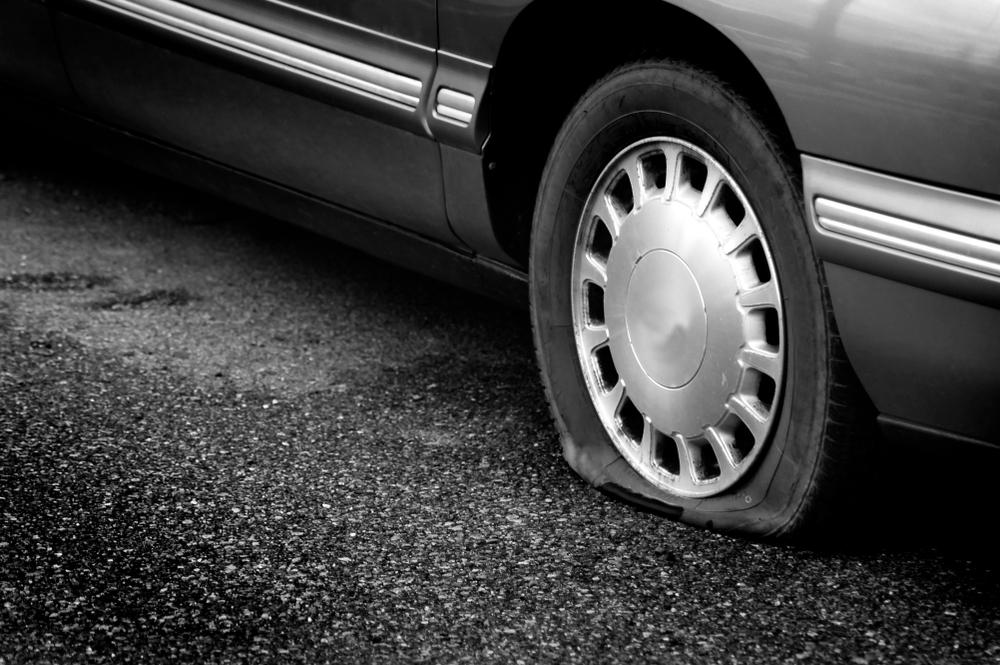tire flat: (528, 58, 858, 534)
